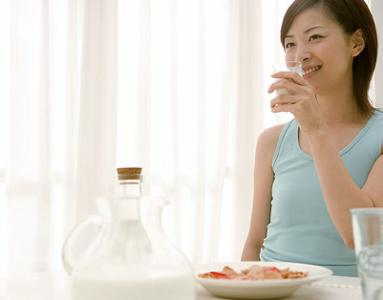person: (240, 2, 383, 277)
